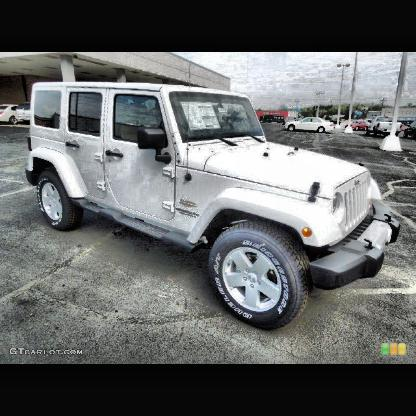Jeep Wrangler SUV 2012: (26, 80, 407, 335)
